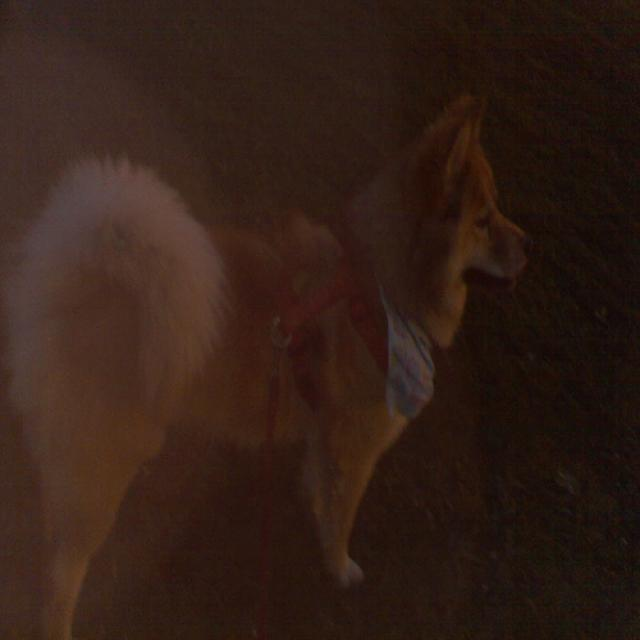Dog: (28, 130, 551, 564)
